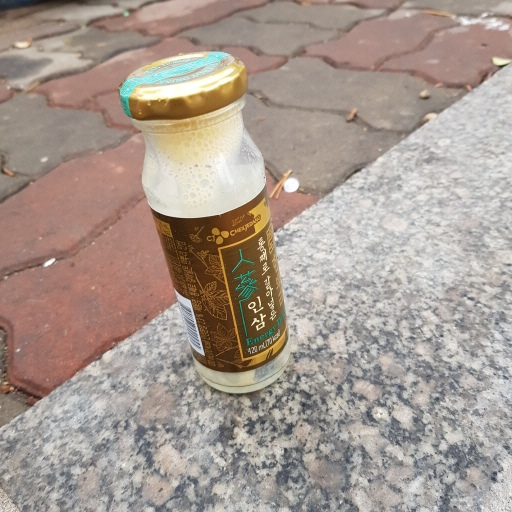Glass_4: (118, 48, 302, 400)
